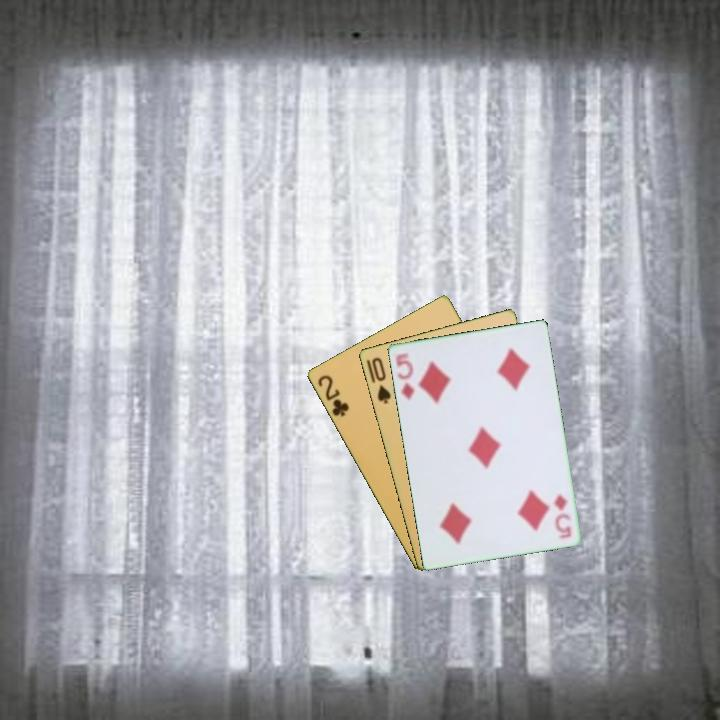10s: (368, 353, 393, 407)
2c: (314, 371, 352, 419)
5d: (391, 349, 417, 403), (549, 491, 574, 541)
